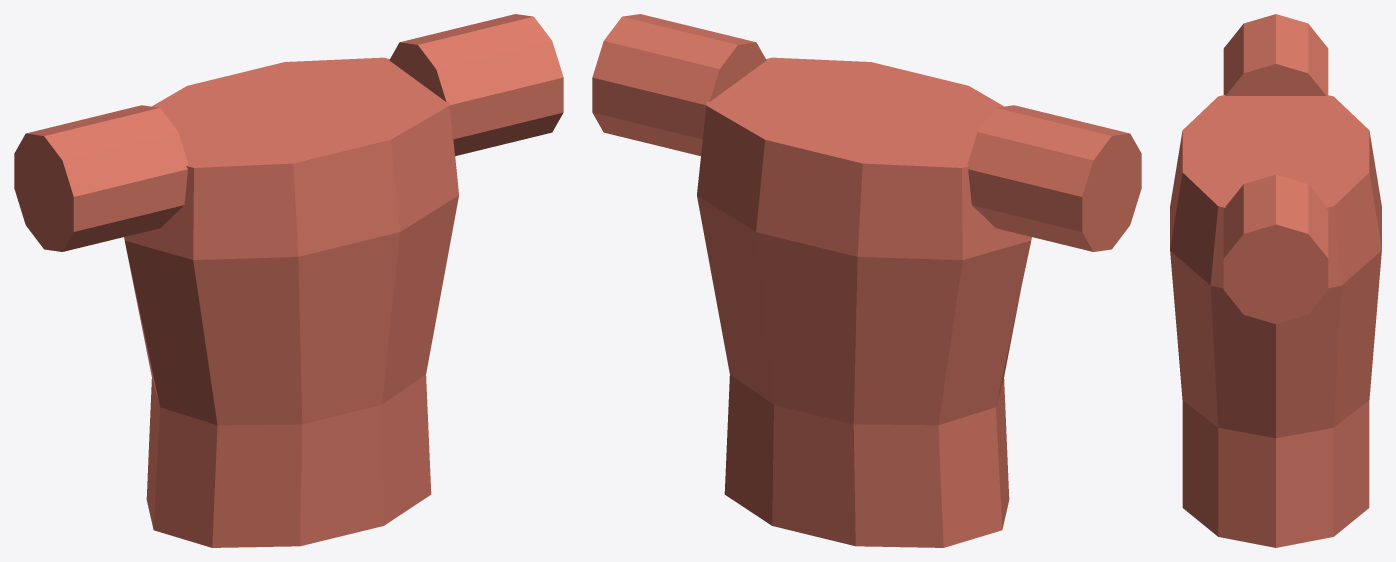
Rendered from Modular_Female_Shirt.fbx.
3 renders of one model, left to right at view 1: azimuth 30°, elevation 25°; view 2: azimuth 150°, elevation 25°; view 3: azimuth 270°, elevation 25°, orthographic. The views are drawn at different scales.
Visible parts, largest first — view 1: Shirt.014, Sleeve.028, Sleeve.029; view 2: Shirt.014, Sleeve.028, Sleeve.029; view 3: Shirt.014, Sleeve.029, Sleeve.028.
Part boxes in pixels (bbox=[...]): Shirt.014: bbox=[124, 57, 458, 547]; Sleeve.028: bbox=[14, 105, 188, 251]; Sleeve.029: bbox=[389, 14, 563, 155]; Shirt.014: bbox=[697, 57, 1031, 547]; Sleeve.028: bbox=[967, 105, 1141, 251]; Sleeve.029: bbox=[592, 14, 766, 156]; Shirt.014: bbox=[1170, 95, 1381, 547]; Sleeve.029: bbox=[1223, 174, 1328, 323]; Sleeve.028: bbox=[1223, 14, 1328, 95].
Size of the model in its own units: 0.7296 by 0.599 by 0.3104.
